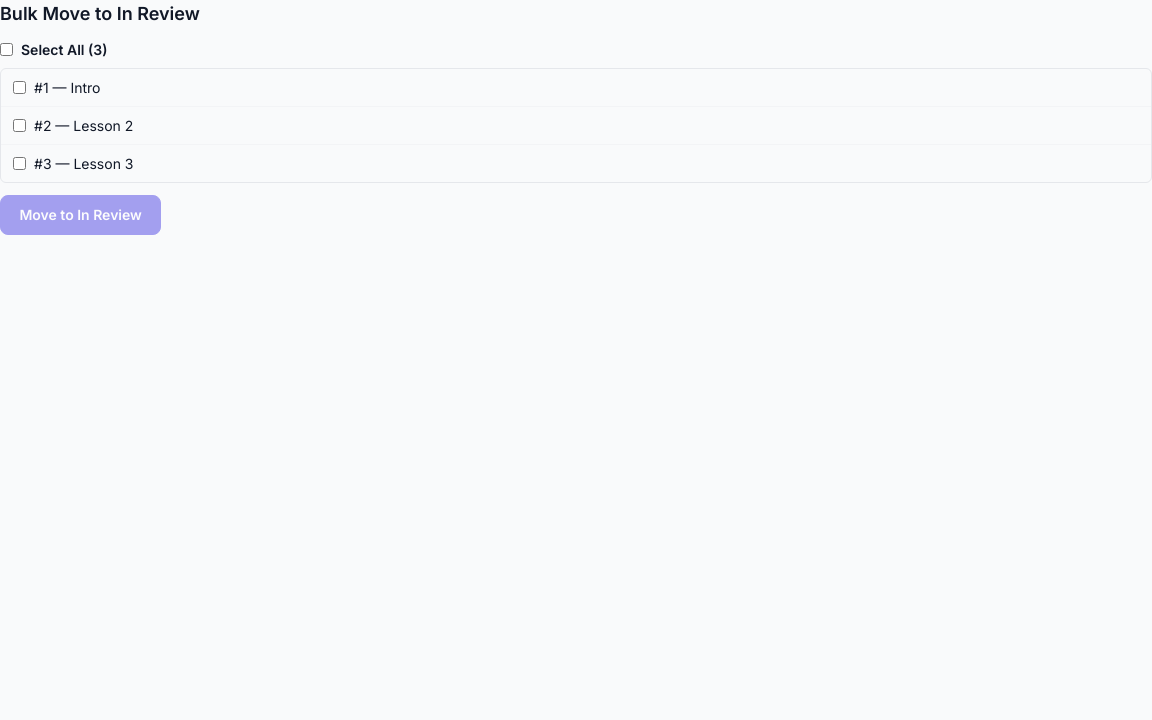
Test case: BulkActionSection › shows a confirmation naming the exact selected count before running
This screenshot has width=1152, height=720.
Click the text "#1 — Intro" at (67, 88), box [34,77,100,98]
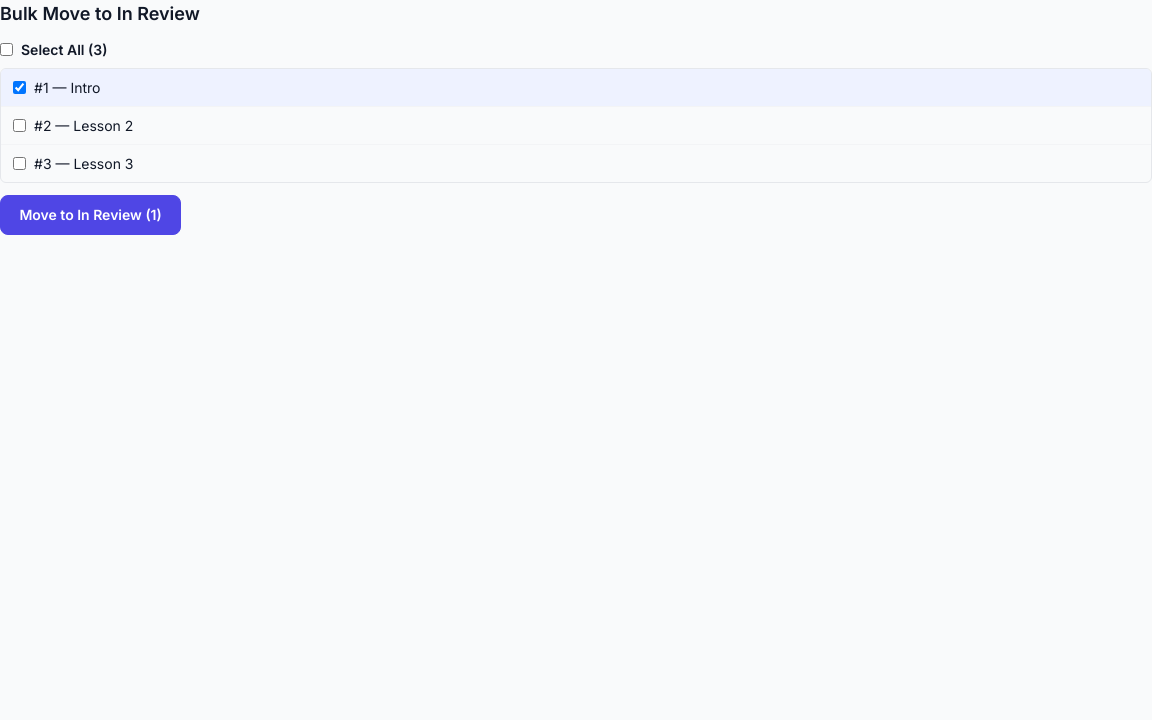
Click the text "#3 — Lesson 3" at (84, 164), box [34,153,134,174]
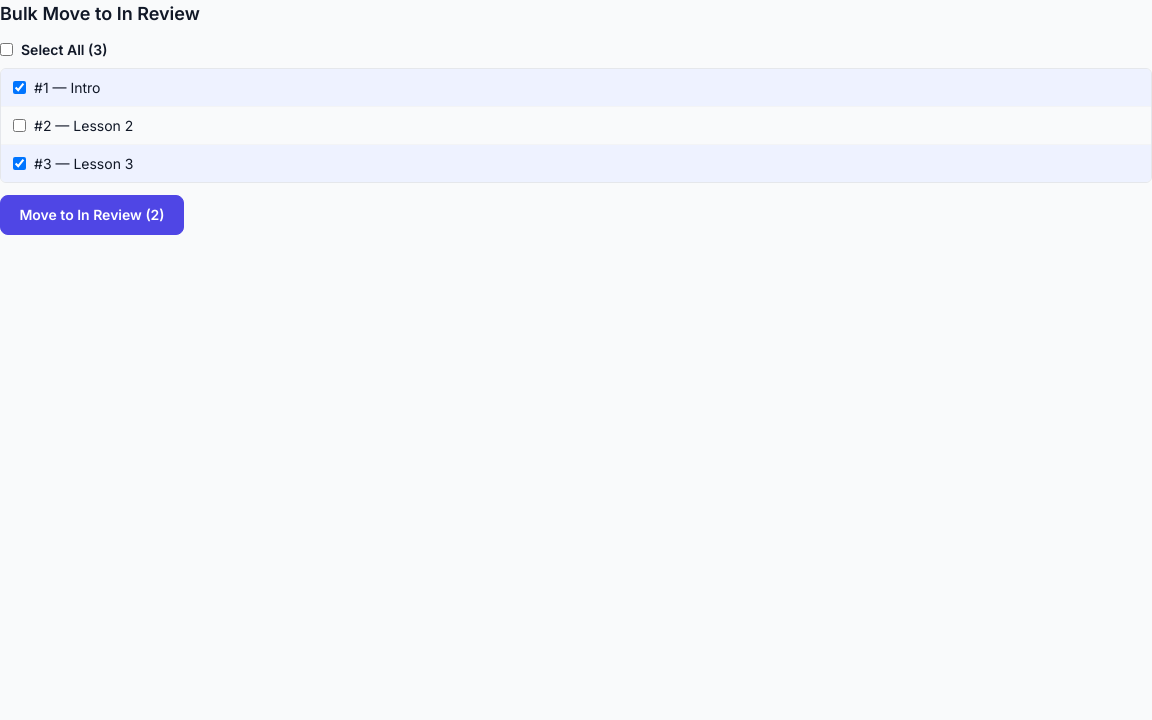
Click the button "Move to In Review (2)" at (92, 215), box [0,195,184,235]
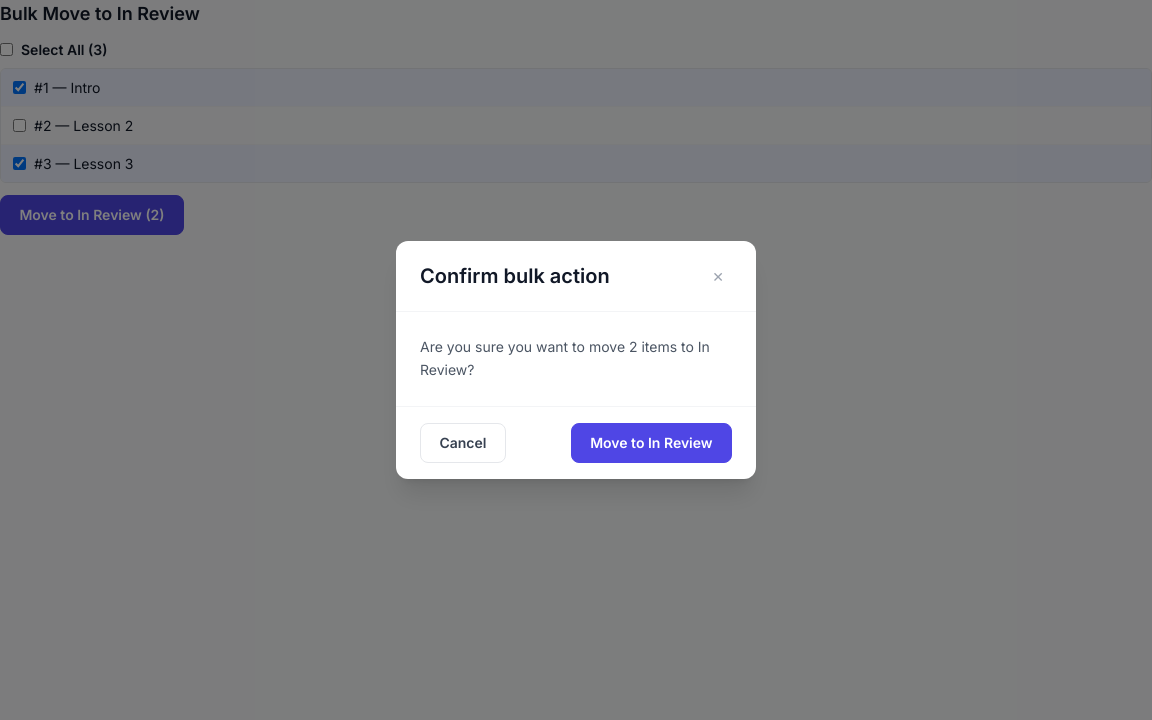
Result: the text "Are you sure you want to move 2 items to In Review?" is shown at [420,336,732,382]
